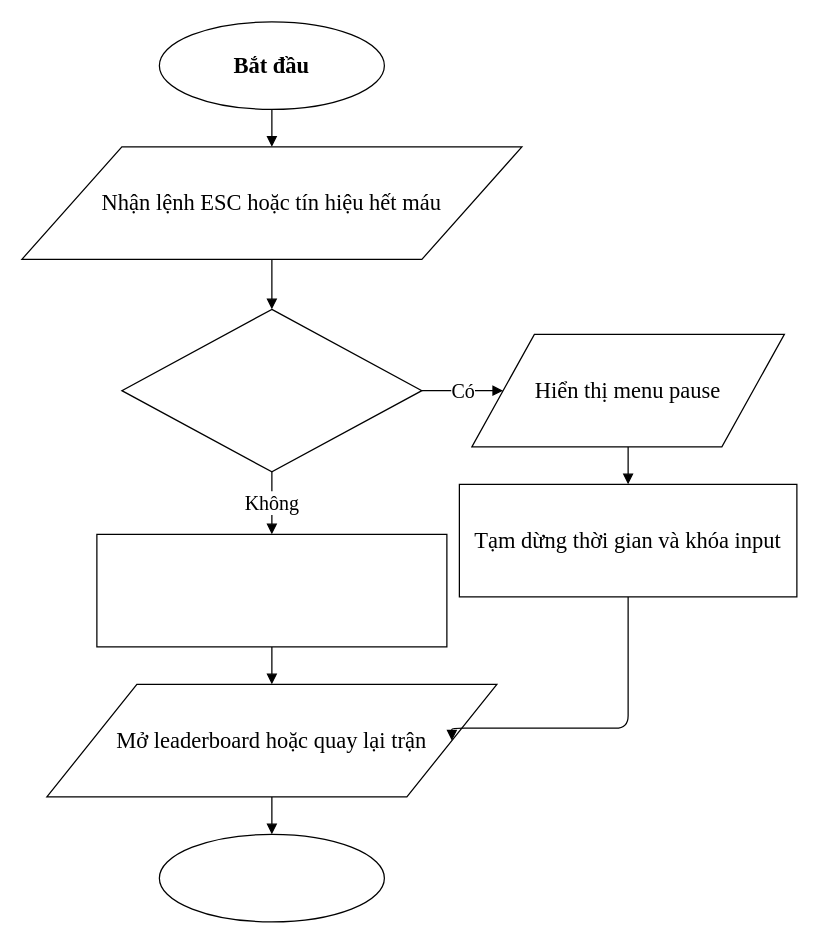
The diagram is 819 pixels wide and 944 high, and some of its shapes have lost their labels. Each missing label, with the centre of its shape:
Dọn dẹp trận và chuẩn bị kết quả: (271,590)
Kết thúc: (271,877)
Người chơi còn sống?: (271,390)
